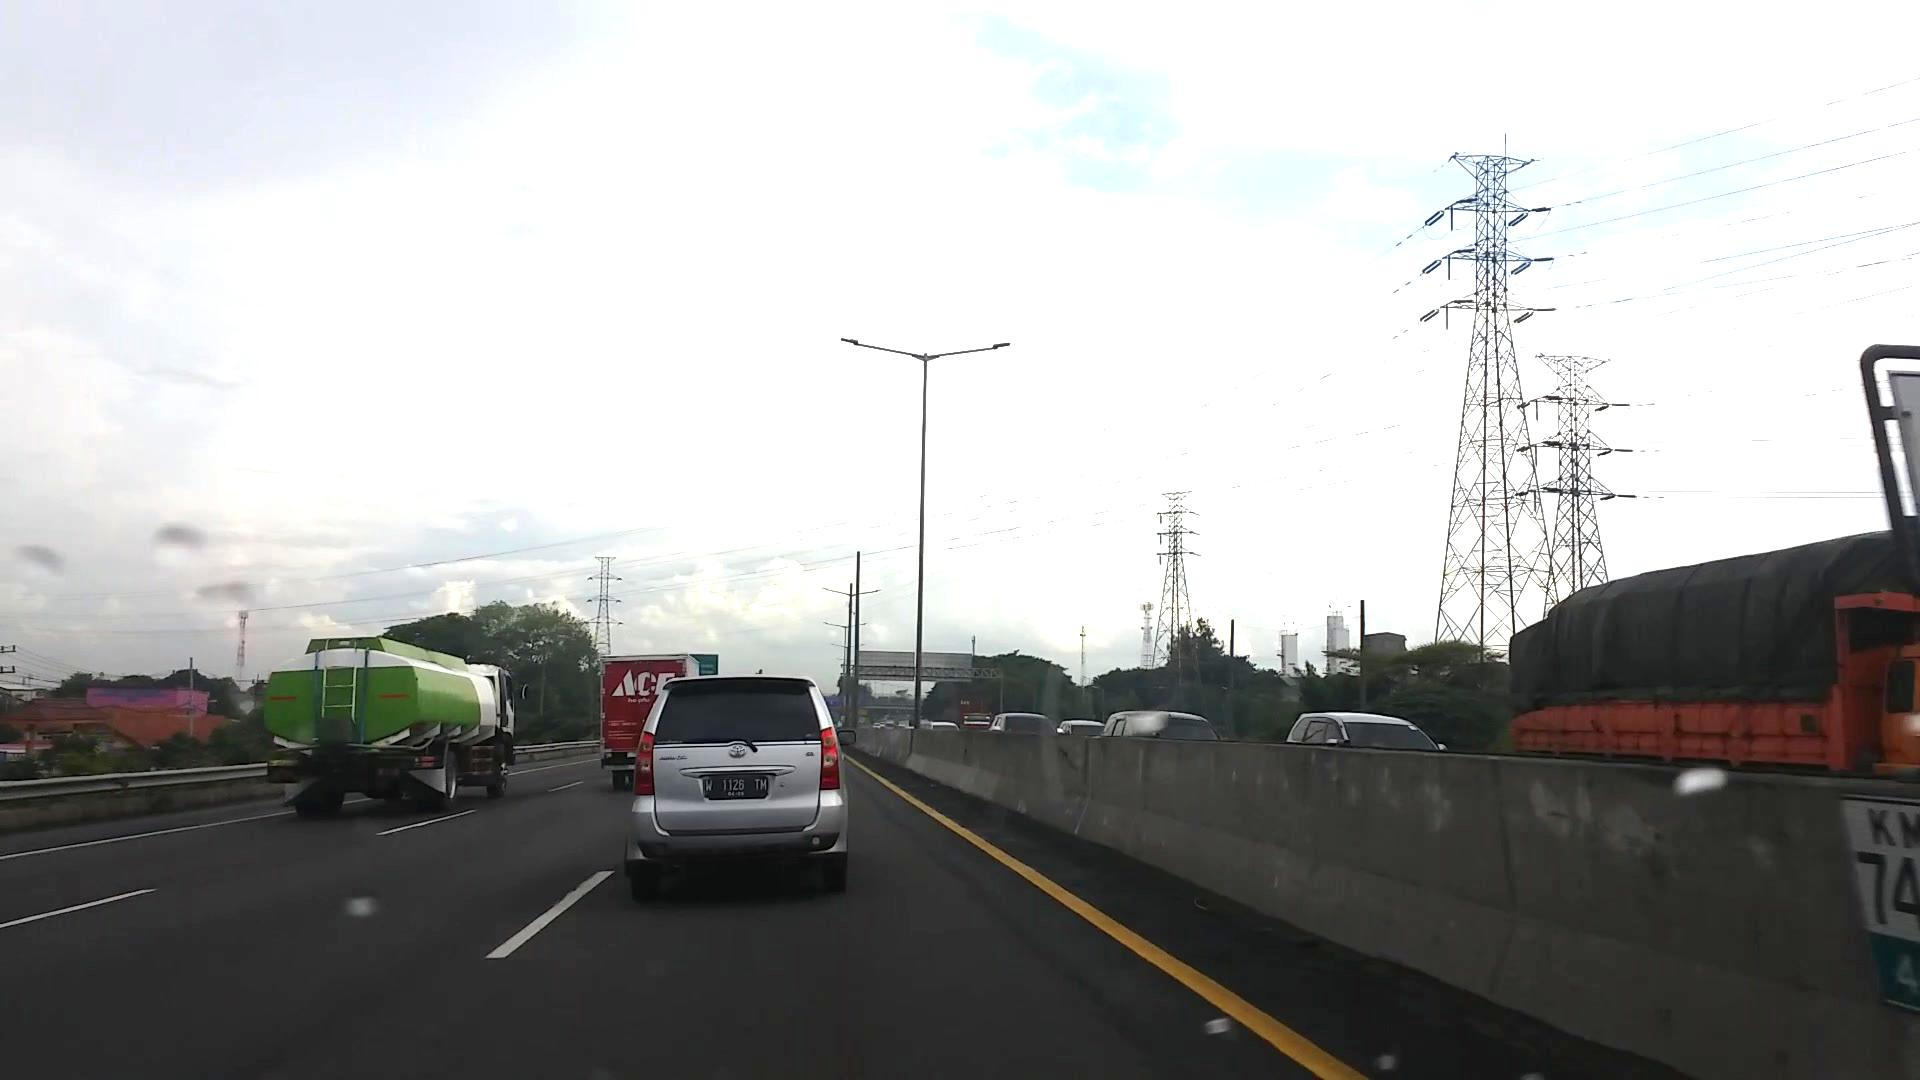plate_positive: (704, 775, 769, 799)
